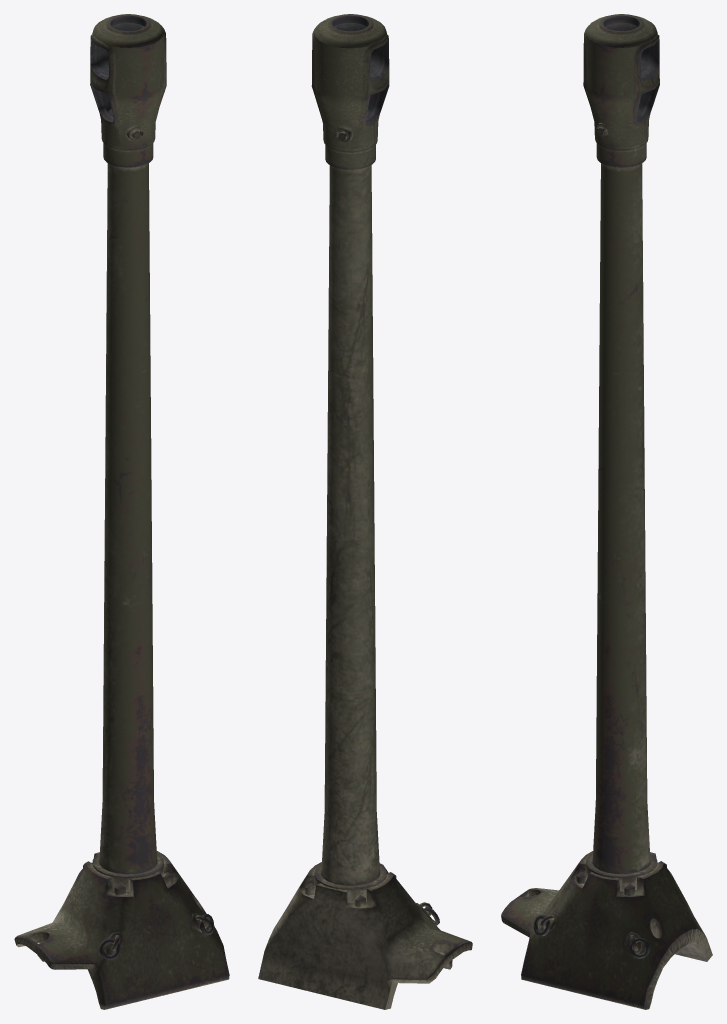
The model's file is Gun_01.glb.
3 renders of one model, left to right at view 1: azimuth 30°, elevation 25°; view 2: azimuth 150°, elevation 25°; view 3: azimuth 330°, elevation 25°, orthographic.
Visible parts, largest first — view 1: set_0_group_0; view 2: set_0_group_0; view 3: set_0_group_0.
Boxes of the visible parts, box(x1,y1,x2,y2) form: set_0_group_0: box(14, 14, 229, 1009); set_0_group_0: box(258, 14, 472, 1009); set_0_group_0: box(501, 14, 712, 1009).
Bounding box in the file's own units: 0.7909 × 4.38 × 0.5706.
Materials: 1 (1 with a texture image).
